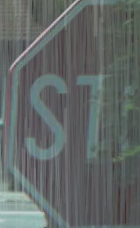Stop: (11, 1, 127, 219)
